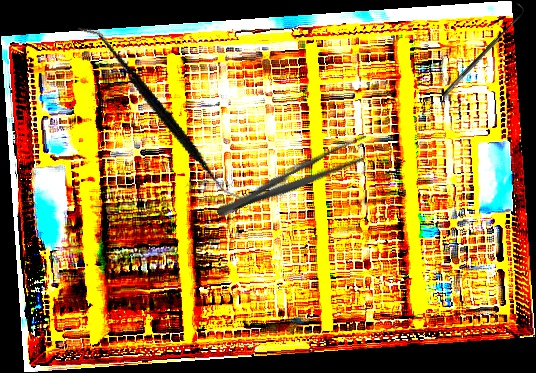Dressing Forceps: (212, 130, 375, 227)
Hook Surgical: (434, 2, 529, 99)
Spatula Surgical: (41, 24, 279, 204)
